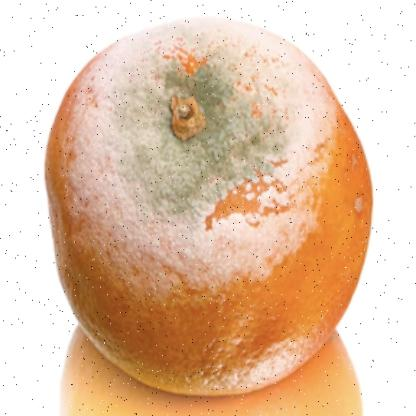rotten: (46, 22, 376, 400)
